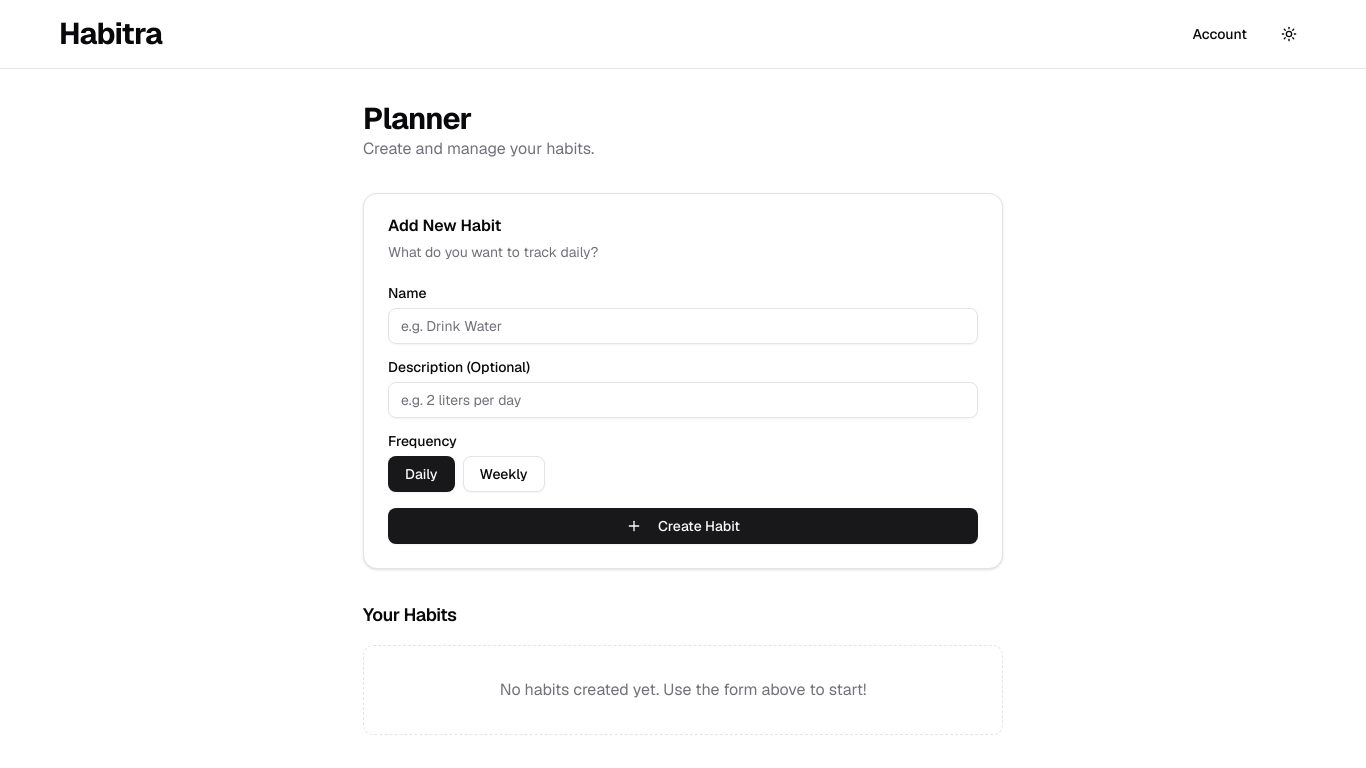
it: Planner page › adds and removes a habit using the UI
The width and height of the screenshot is (1366, 768).
Check: the text "No habits created yet" is shown, box [500,679,867,700]
Type "Read a book" into the field with id "name" at (683, 326), box [388,308,978,344]
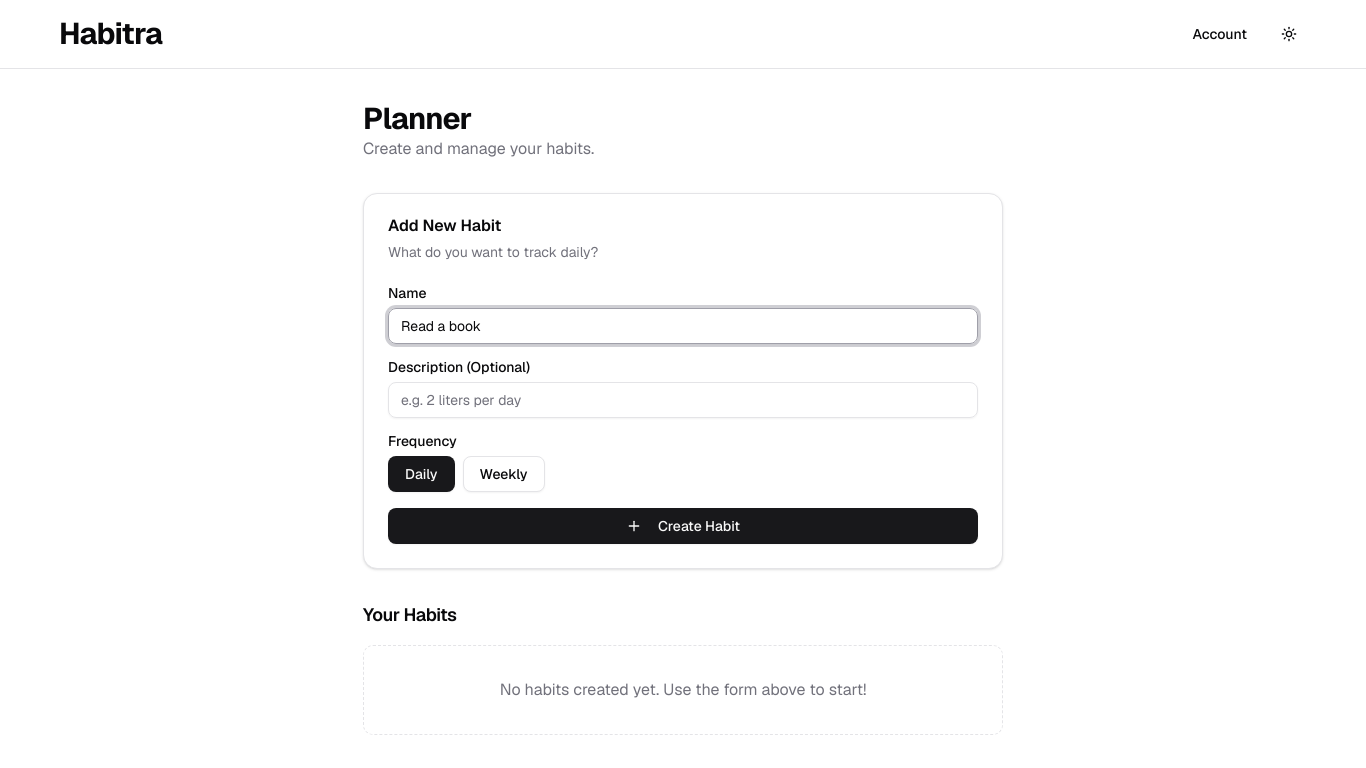
Click the submit button at (683, 526), box [388,508,978,544]
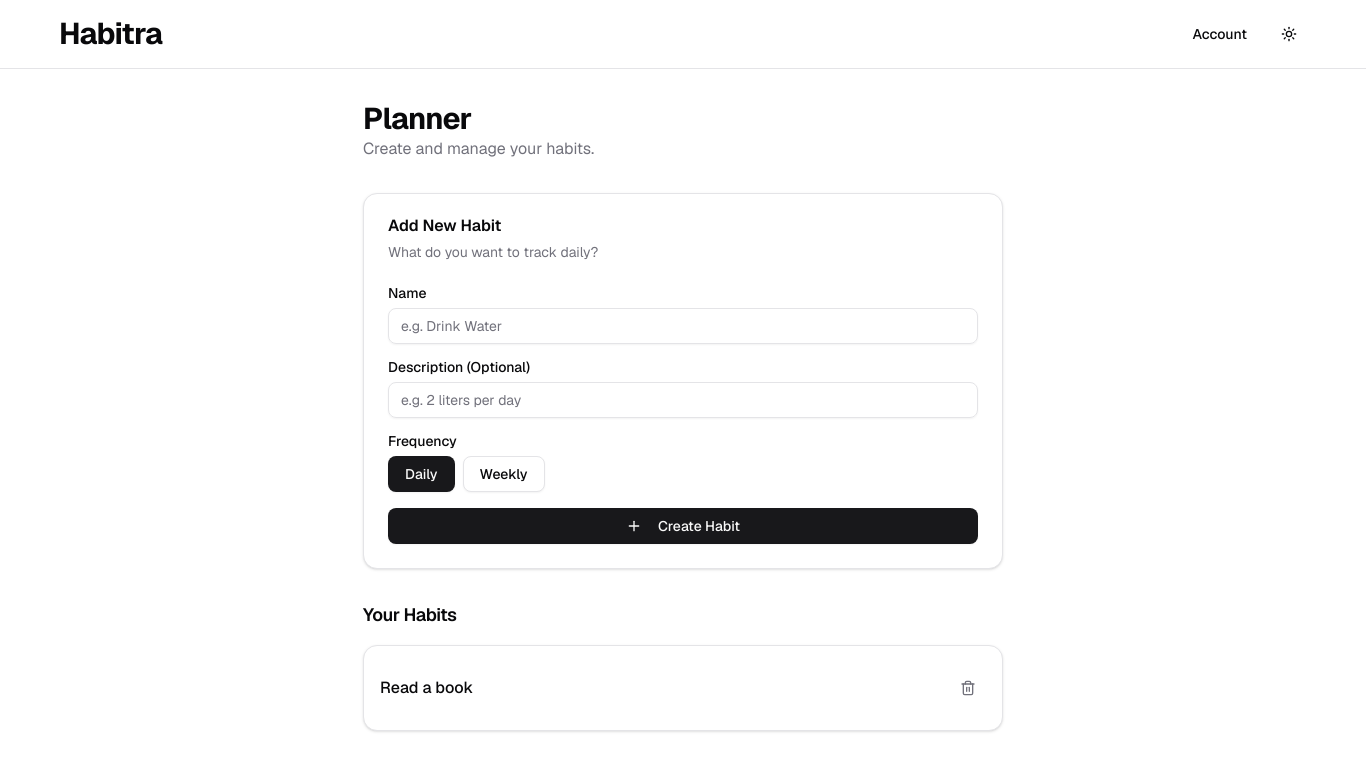
Check: the text "Read a book" is shown, box [380,676,473,700]
Scroll
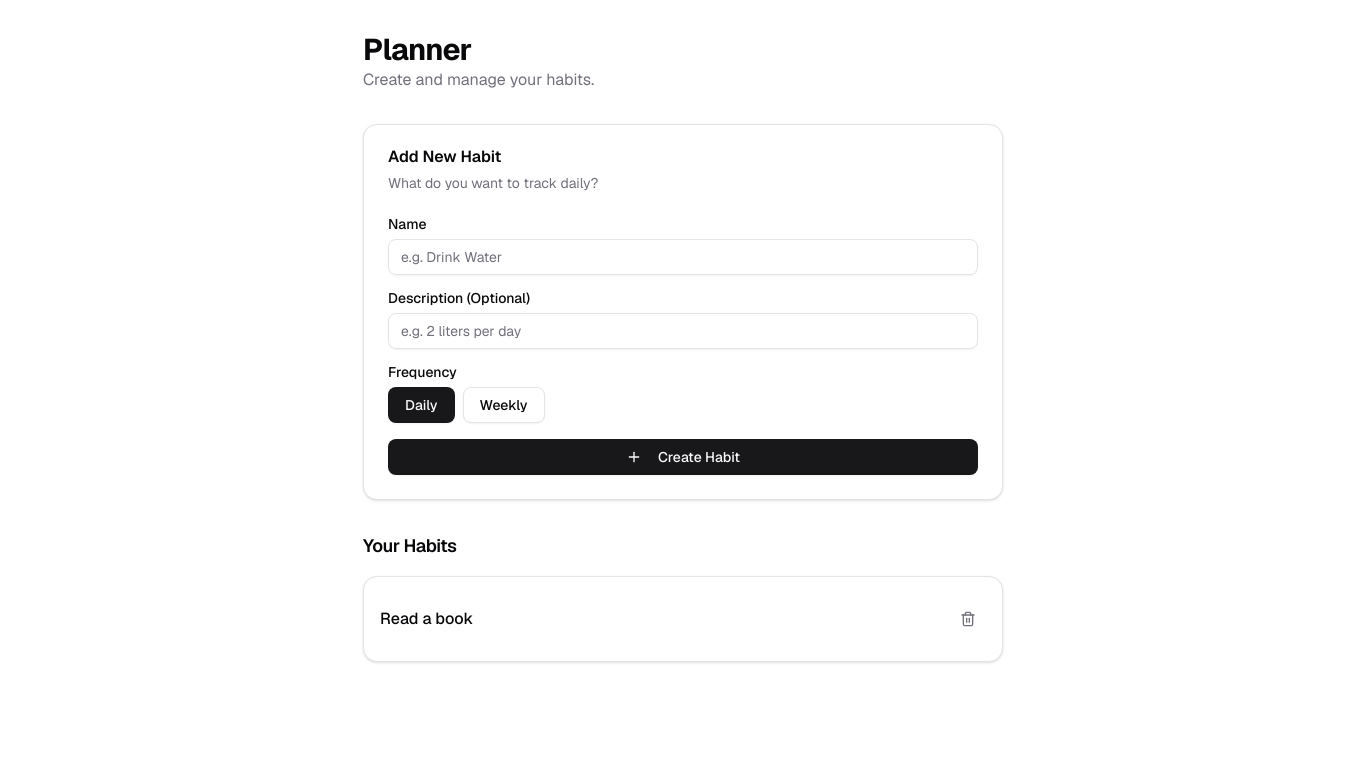
Click the button with test id "habit-delete-1" at (968, 619), box [950,601,986,637]
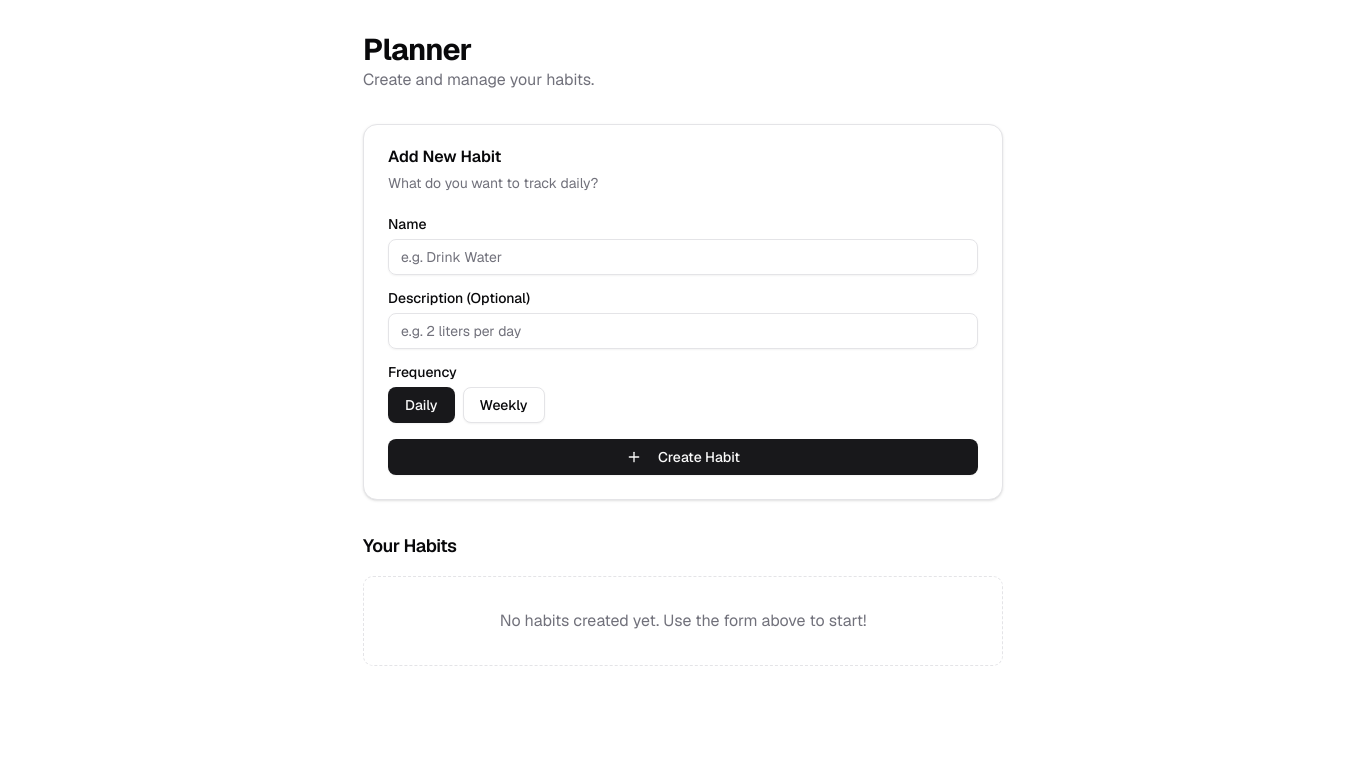
Check: the text "Read a book" is gone
